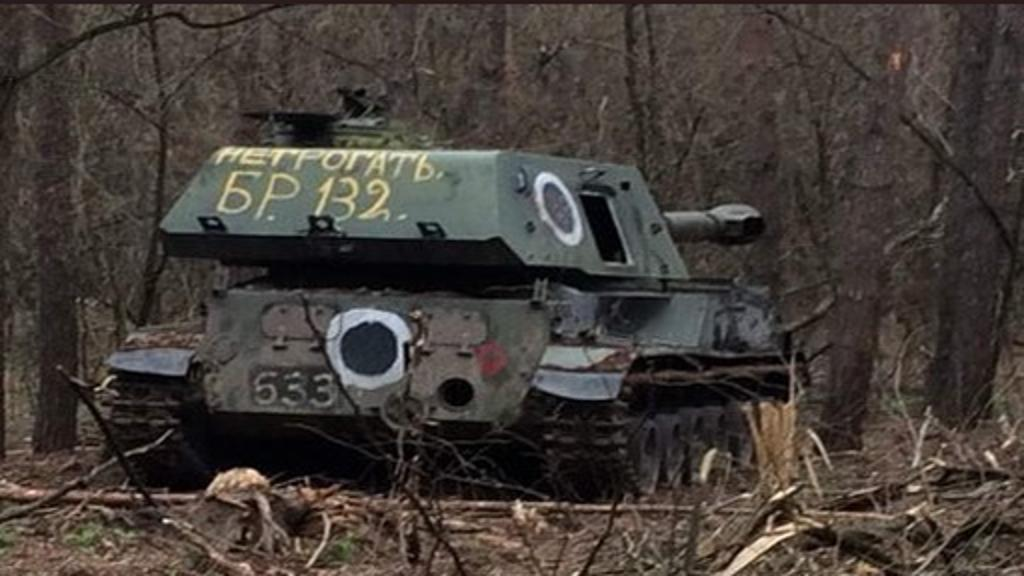ART: (92, 118, 816, 520)
